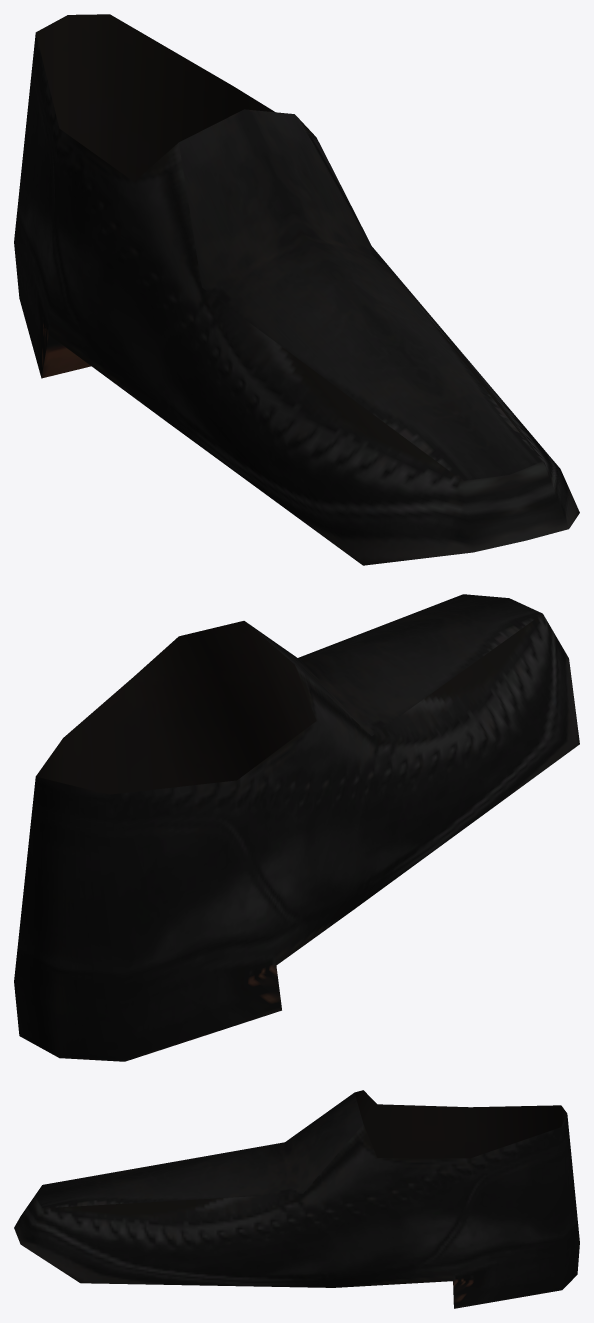
The model's file is p6_shoe_single_01_lod1.glb.
The picture shows the model from 3 angles, top to bottom: view 1: azimuth 30°, elevation 25°; view 2: azimuth 150°, elevation 25°; view 3: azimuth 270°, elevation 25°; orthographic projection. The views are drawn at different scales.
Parts seen in each view (by area): view 1: surf0; view 2: surf0; view 3: surf0.
Boxes of the visible parts, box(x1,y1,x2,y2) form: surf0: box(14, 14, 579, 565); surf0: box(14, 594, 579, 1061); surf0: box(14, 1090, 579, 1308).
Size of the model in its own units: 3.81 by 4.57 by 12.87.
